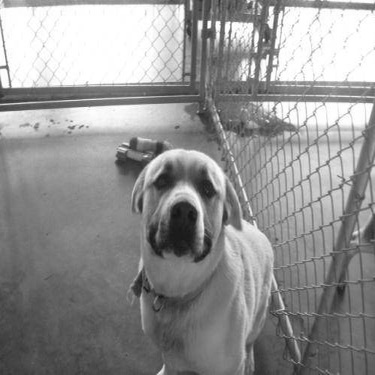dog: (113, 142, 286, 372)
